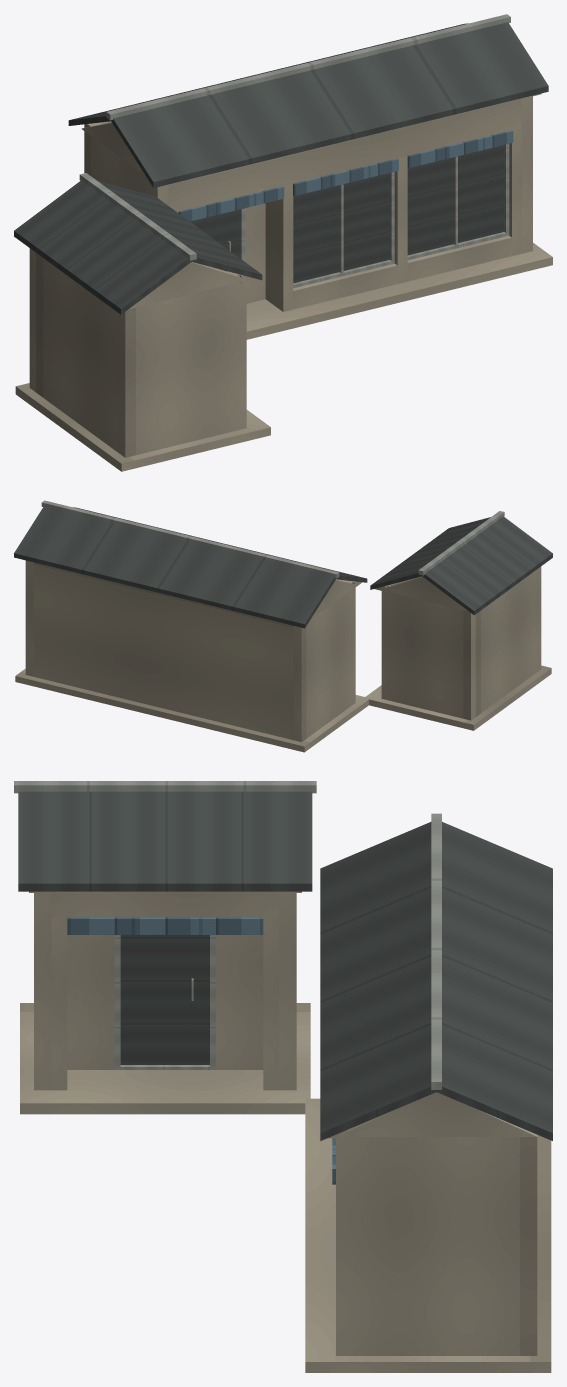
The picture shows the model from 3 angles, top to bottom: view 1: azimuth 30°, elevation 25°; view 2: azimuth 150°, elevation 25°; view 3: azimuth 270°, elevation 25°; orthographic projection. The views are drawn at different scales.
Visible parts, largest first — view 1: mariehamn; view 2: mariehamn; view 3: mariehamn.
Boxes of the visible parts, x1,y1,x2,y2 form: mariehamn: (14, 14, 552, 471); mariehamn: (14, 500, 552, 752); mariehamn: (14, 781, 552, 1372).
Size of the model in its own units: 8.6 by 3.25 by 5.41.
1 material, 1 textured.
